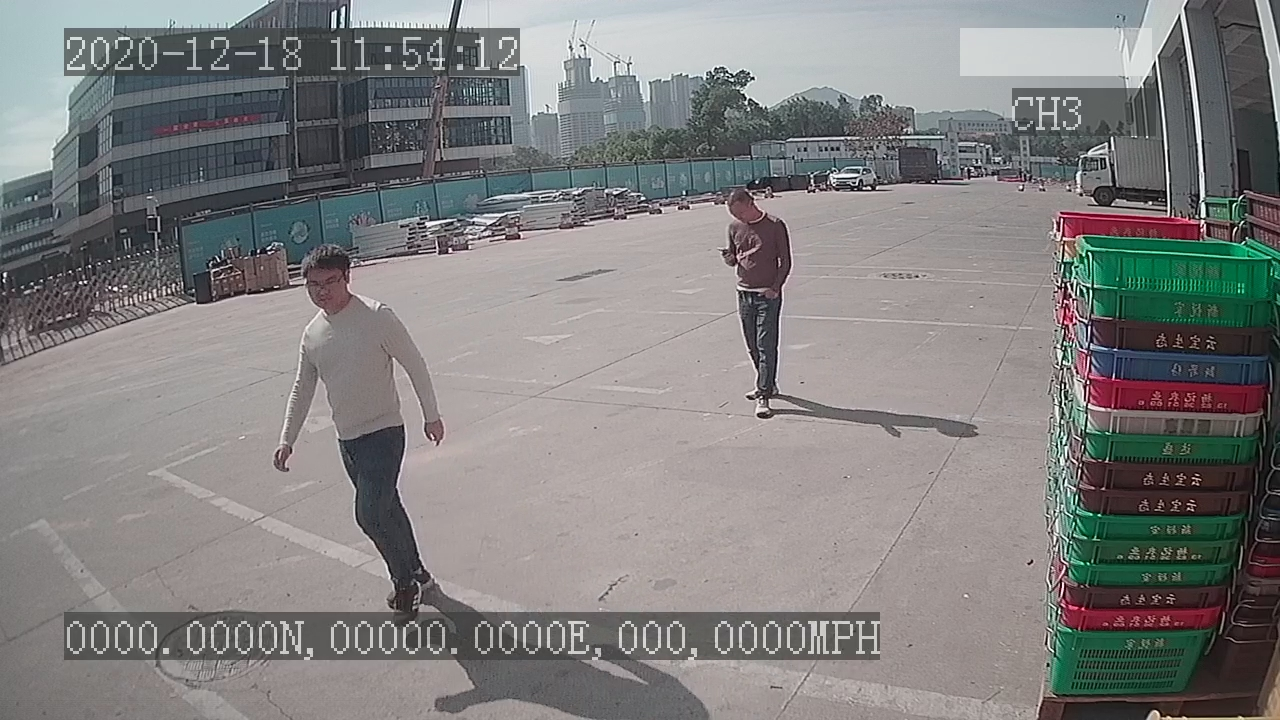person: (704, 183, 799, 435)
